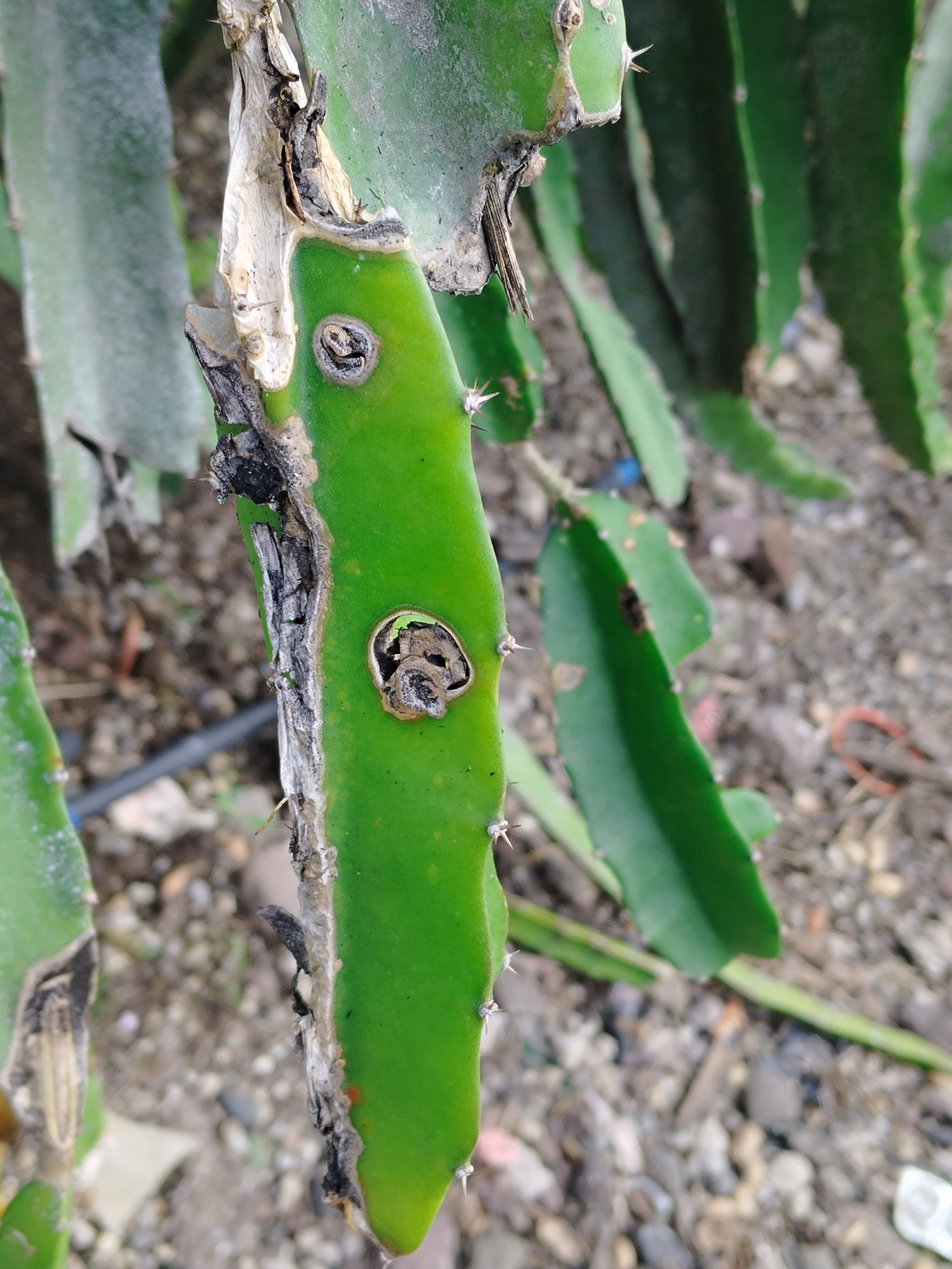stemcanker: (180, 1, 519, 1262), (276, 1, 634, 320), (1, 600, 115, 1269)
